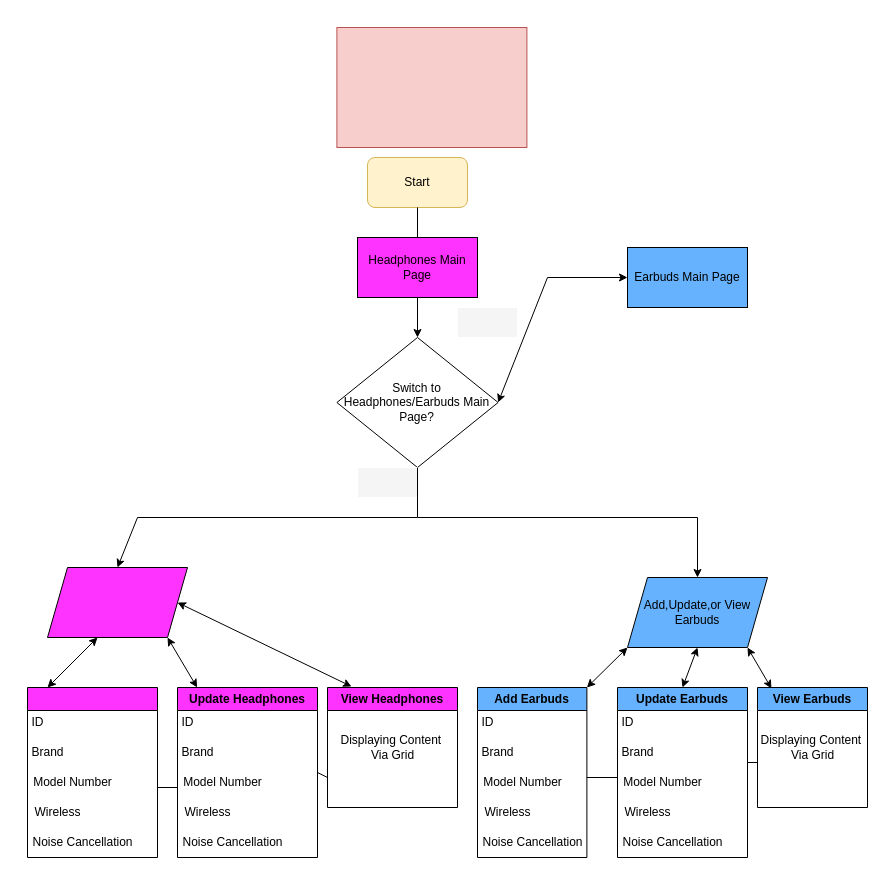
Some shapes in this 894 by 875 pixel diagram are drawn without their labels. Each missing label, with the box of its shape:
Add Headphones: (26, 686, 158, 858)
Add,Update,or View Headphones: (46, 566, 188, 638)
No: (356, 466, 418, 498)
Relationship UML Diagram A visualization of the web layout relationship: (336, 26, 527, 148)
Yes: (456, 306, 518, 338)
